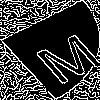M: (24, 25, 100, 87)
